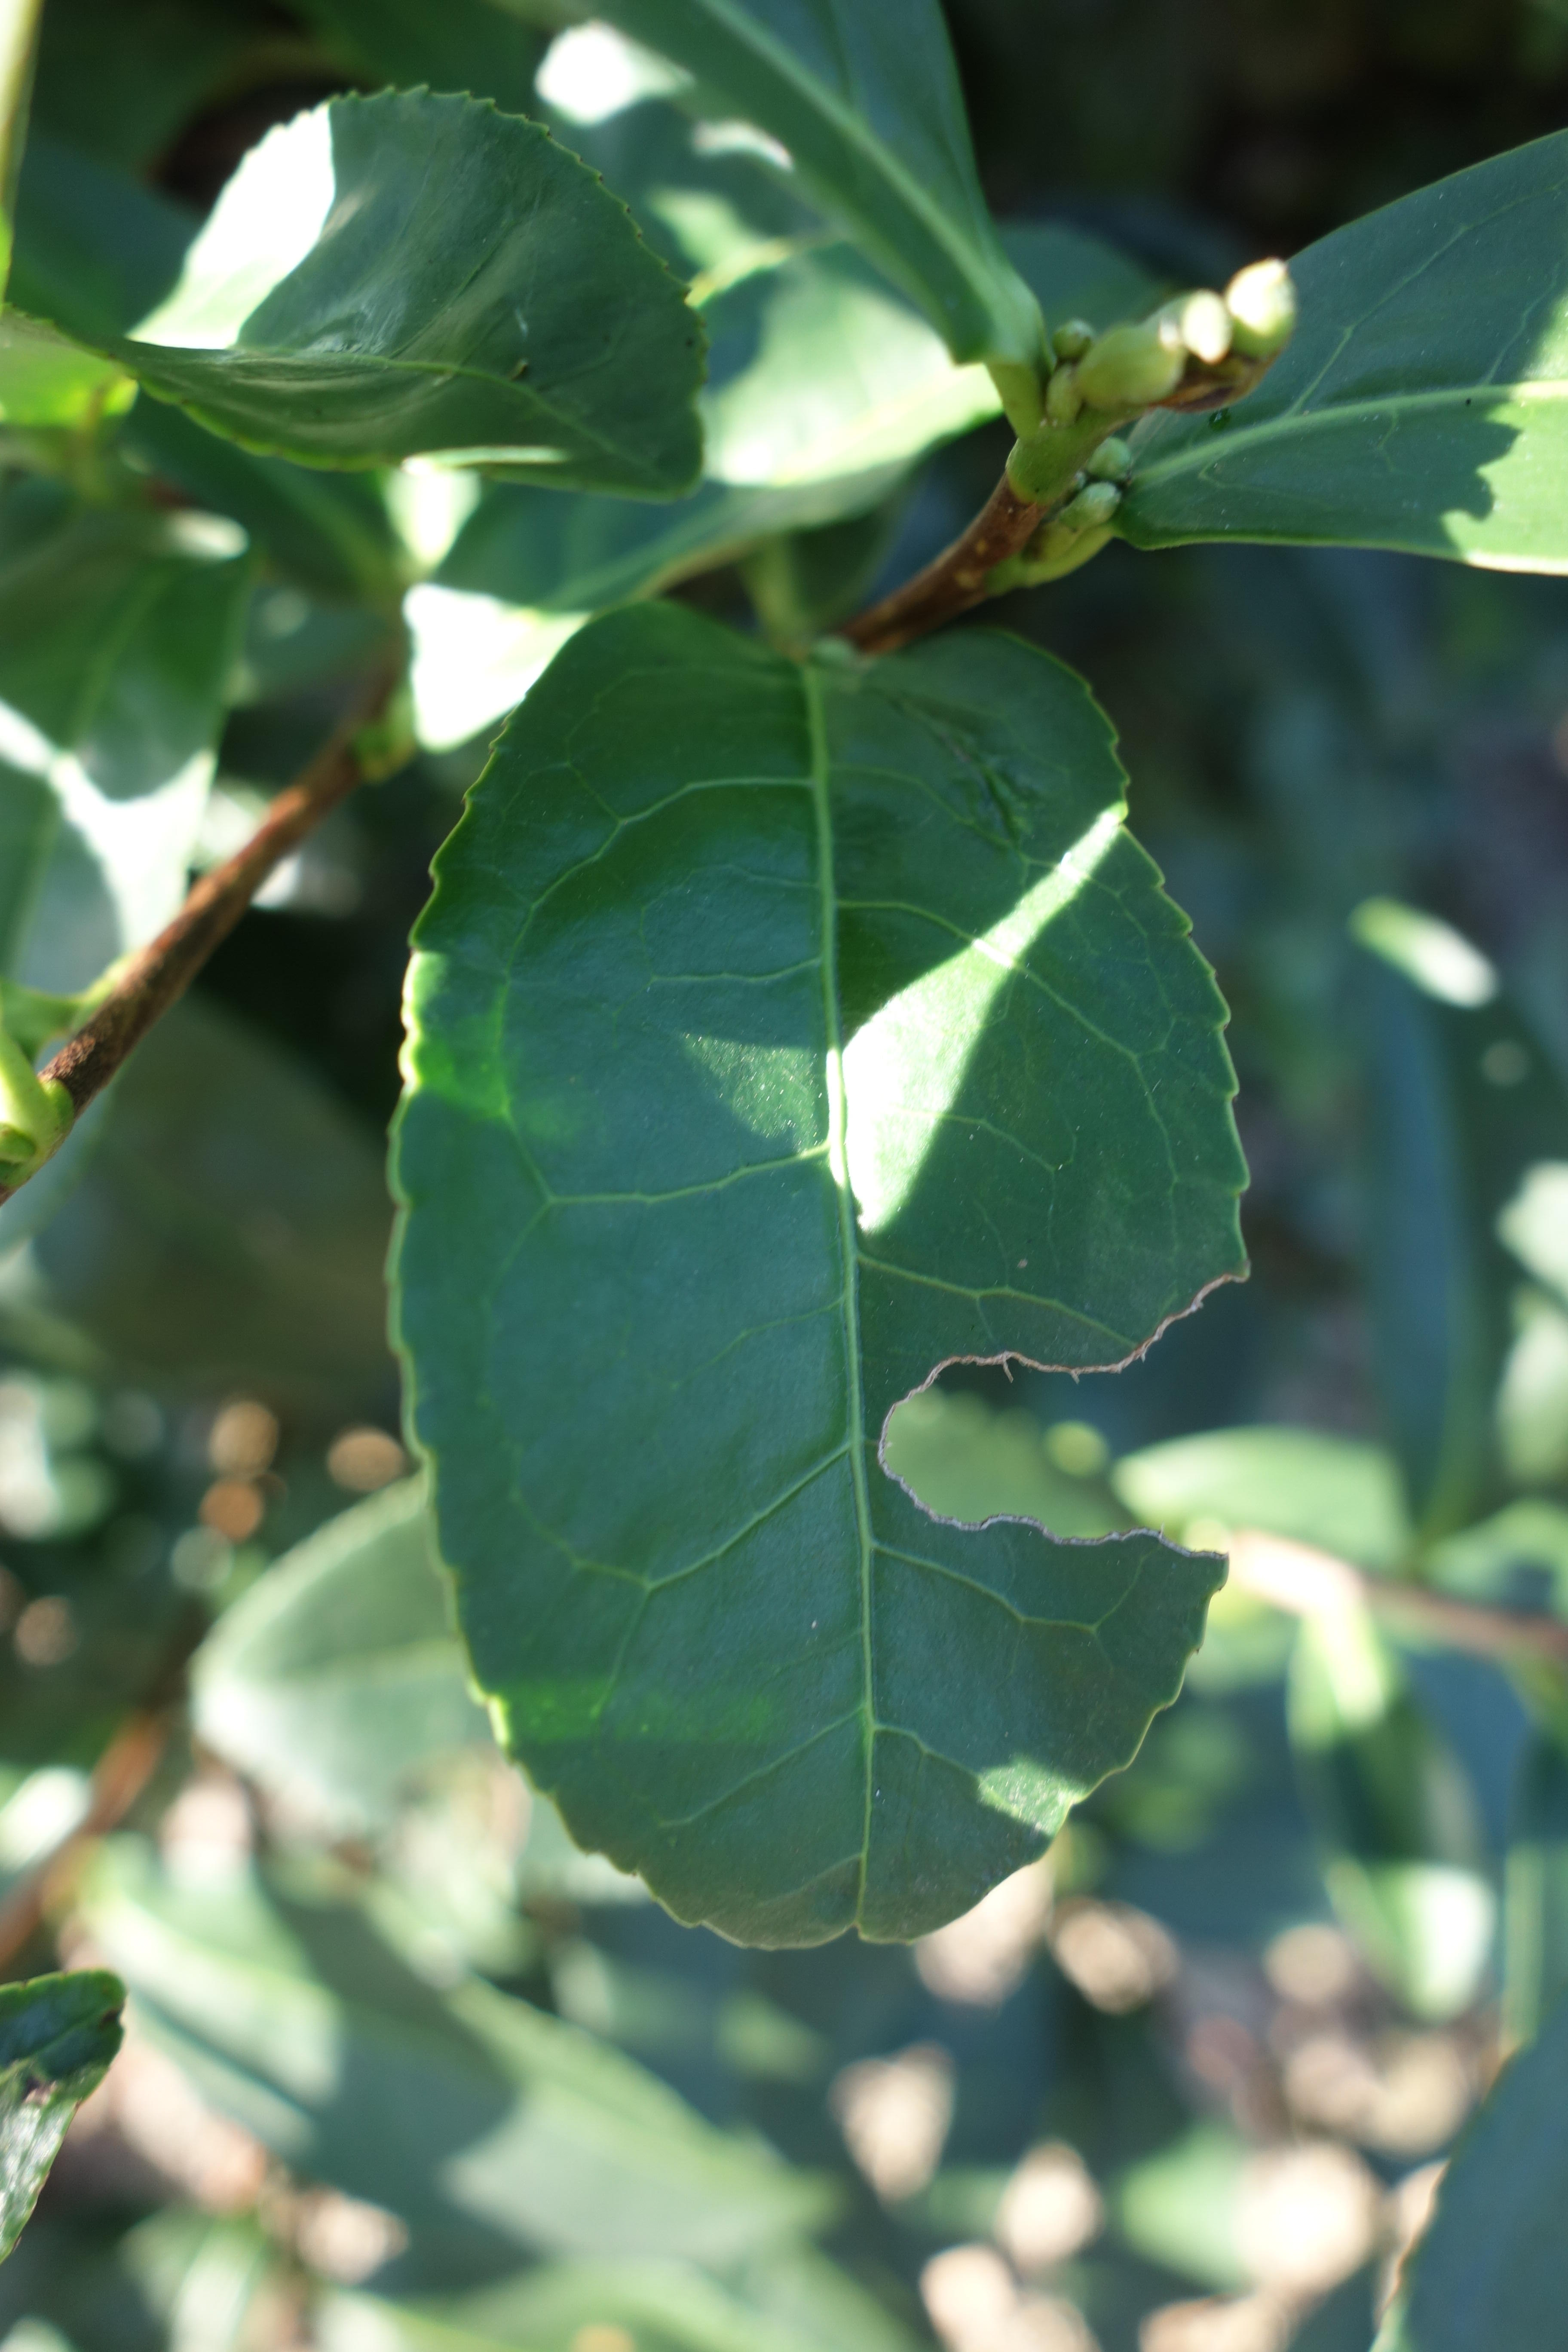chihuo_low: (387, 597, 1262, 1960)
